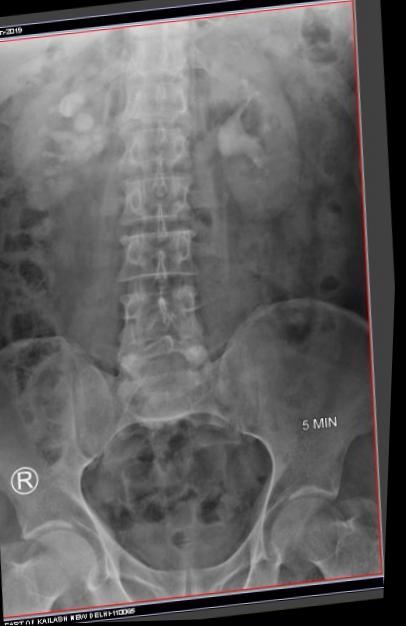left kidney: (222, 8, 348, 224)
right kidney: (2, 31, 131, 212)
vertebrae: (133, 53, 217, 118)
